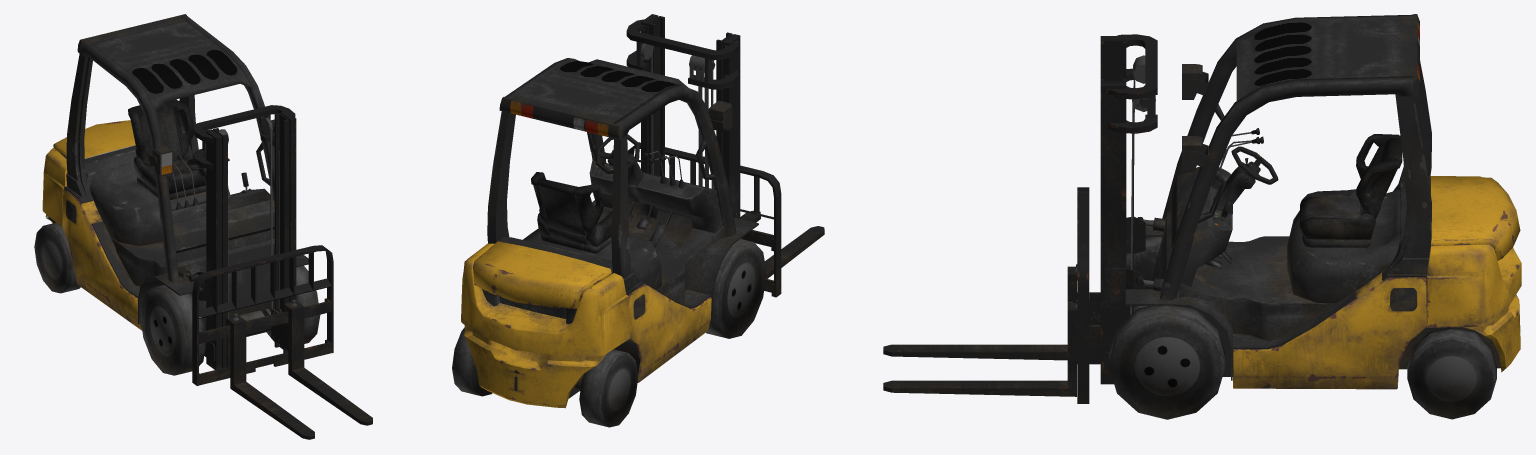
Rendered from Forklift2.glb.
3 renders of one model, left to right at view 1: azimuth 30°, elevation 25°; view 2: azimuth 150°, elevation 25°; view 3: azimuth 270°, elevation 25°, orthographic. The views are drawn at different scales.
Parts seen in each view (by area): view 1: Body; view 2: Body; view 3: Body.
Boxes of the visible parts, bbox=[...] form: Body: bbox=[34, 14, 372, 439]; Body: bbox=[452, 14, 824, 427]; Body: bbox=[883, 14, 1521, 419].
Size of what is drawn, in the model's own units: 1.79 by 2.57 by 4.17.
Materials: 4 (1 with a texture image).
